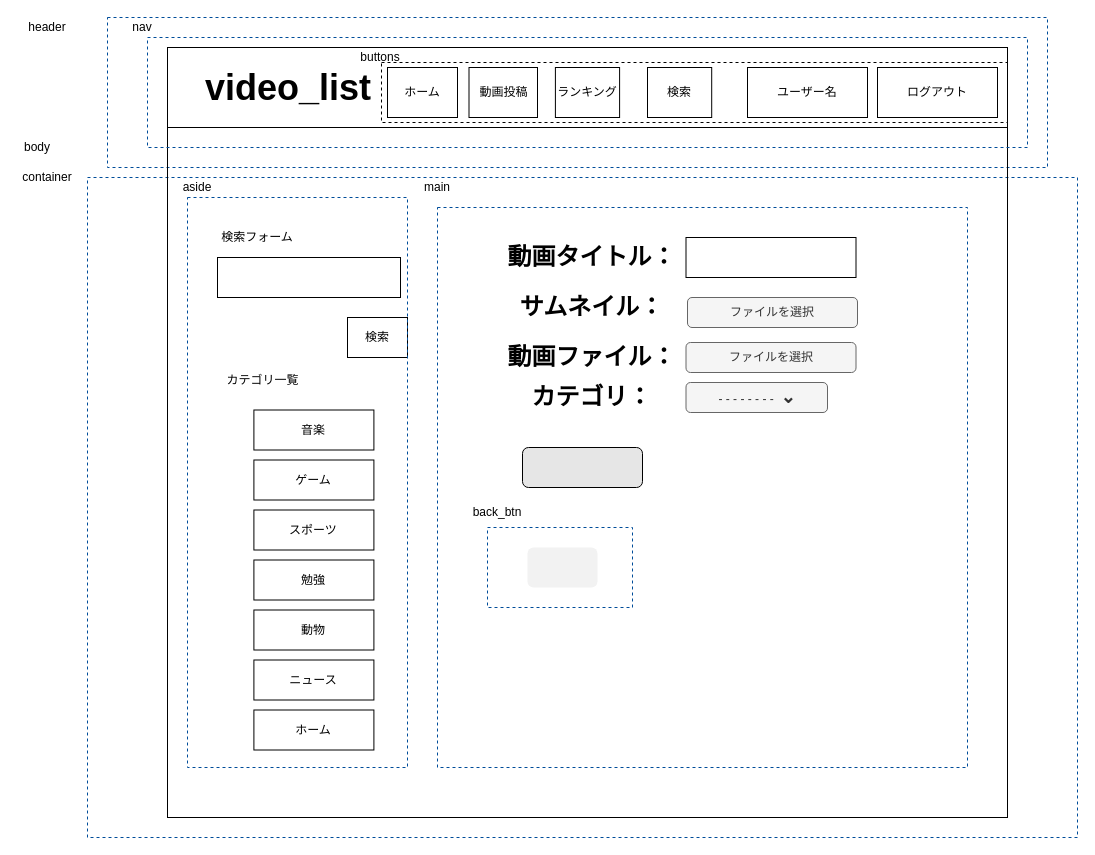
This 1095x855 diagram has some shape labels left out. Here are the shapes that lost their labels. From the top down, the centre of each, then its label:
At point (582, 467): "作成".
At point (562, 567): "戻る".
